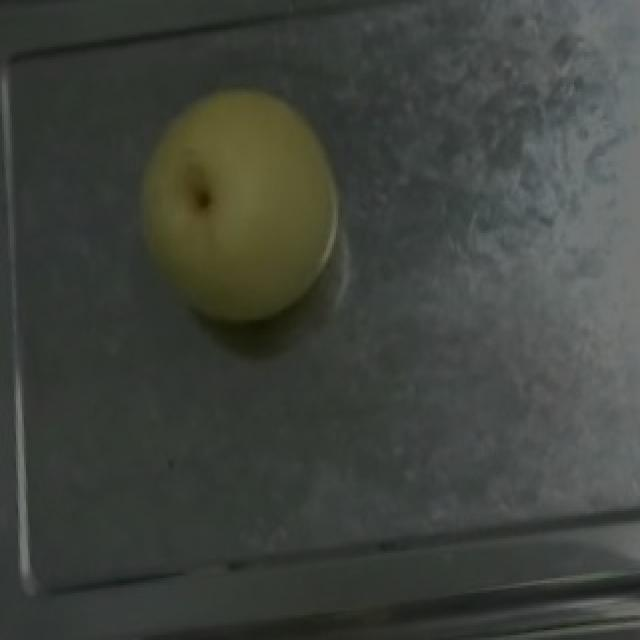Fruit: (104, 62, 366, 345)
